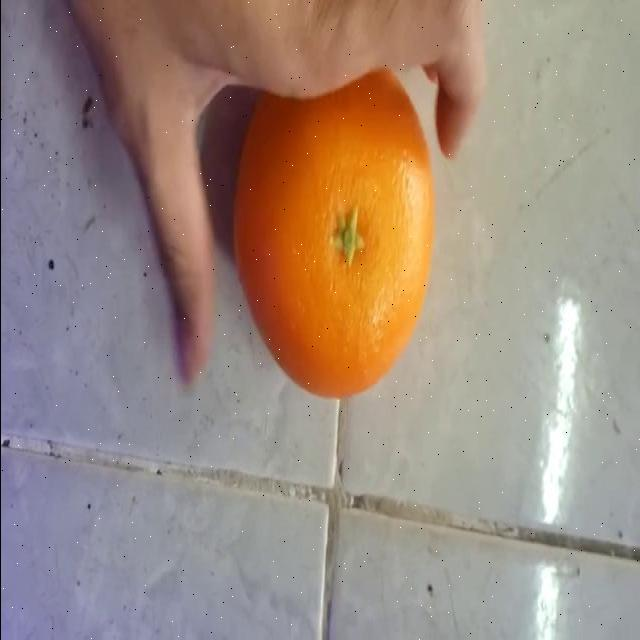Orange: (231, 66, 436, 399)
